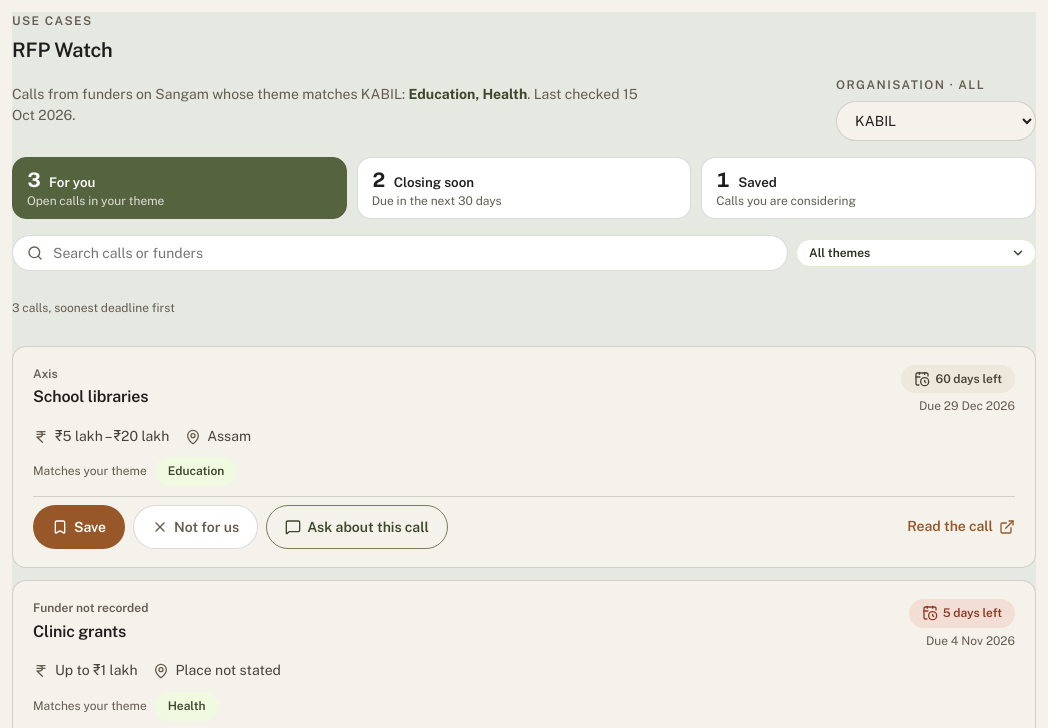
Scenario: RfpWatchView › shows a change that was not saved
Click the button "Save" below "₹5 lakh – ₹20 lakh".
click(79, 527)  # box [33, 505, 125, 549]
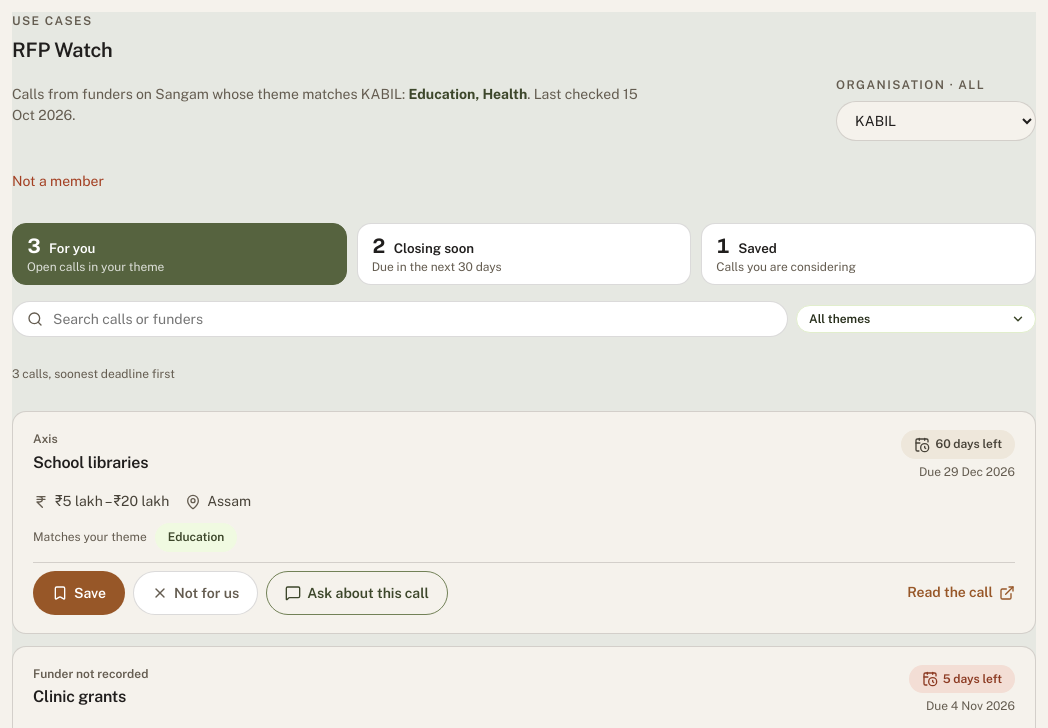
expect the message reads "Not a member": met, box [12, 173, 104, 189]
